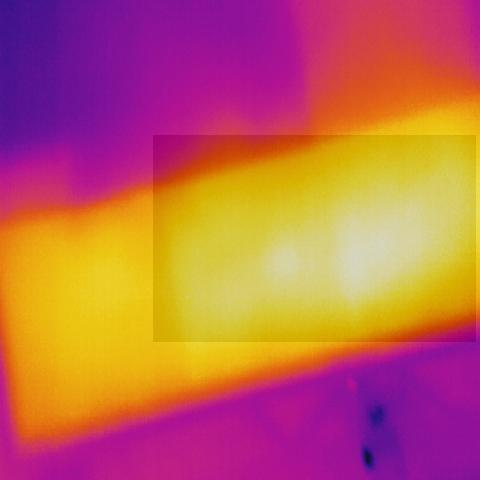fault: (153, 135, 476, 342)
